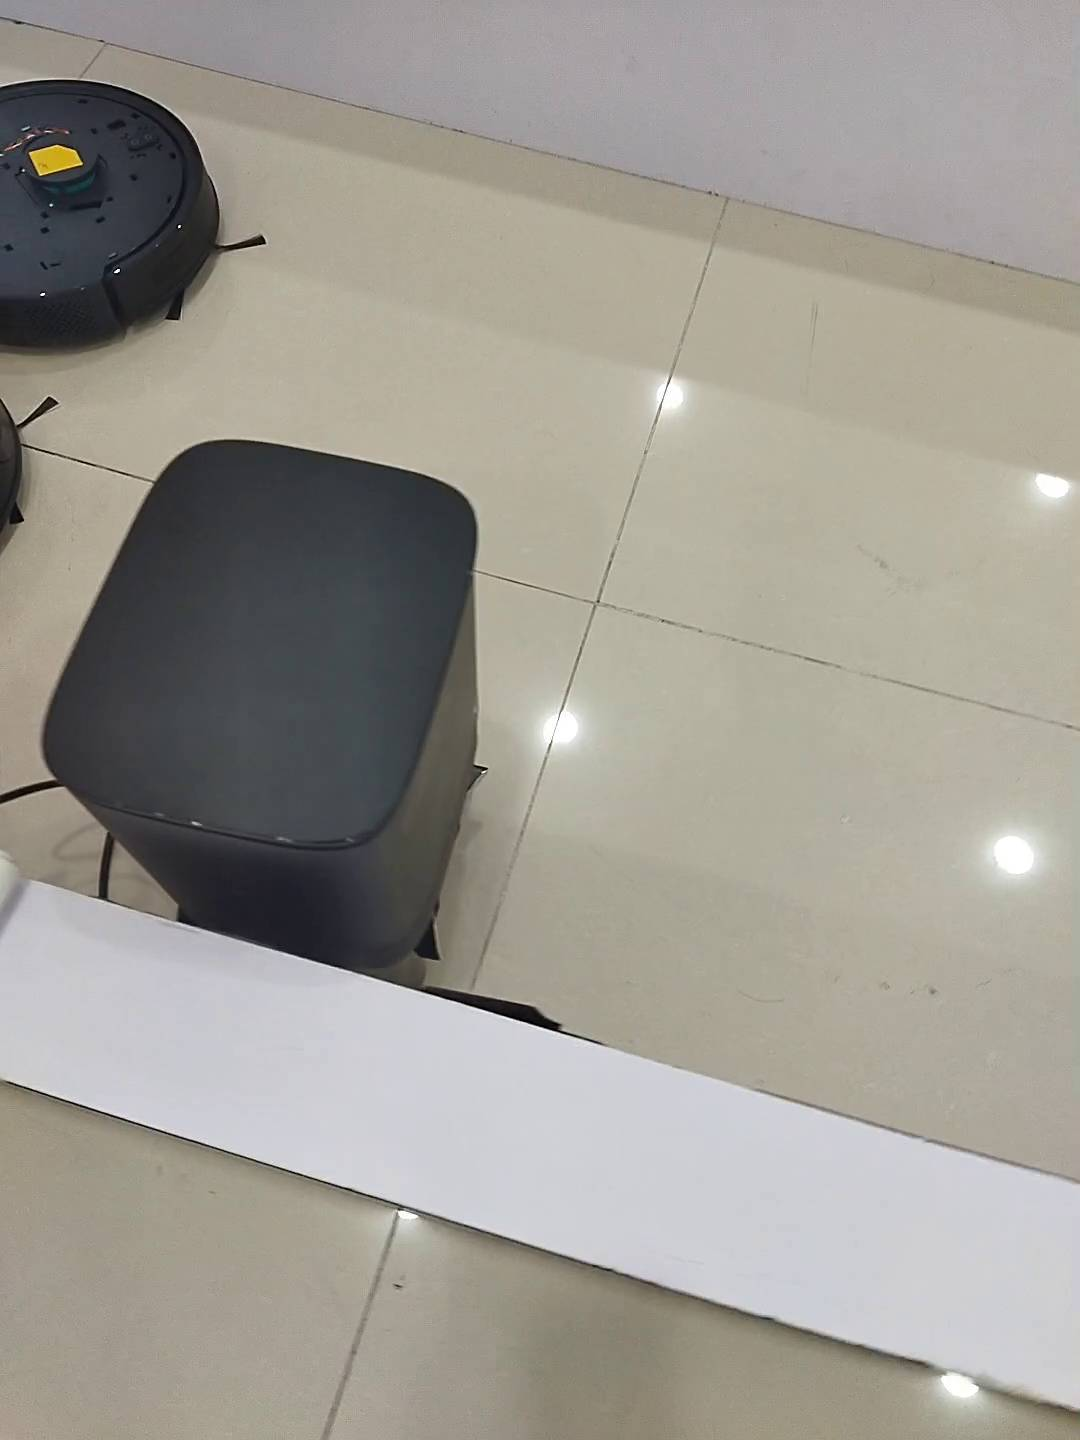dust collecting barrel: (43, 438, 479, 962)
